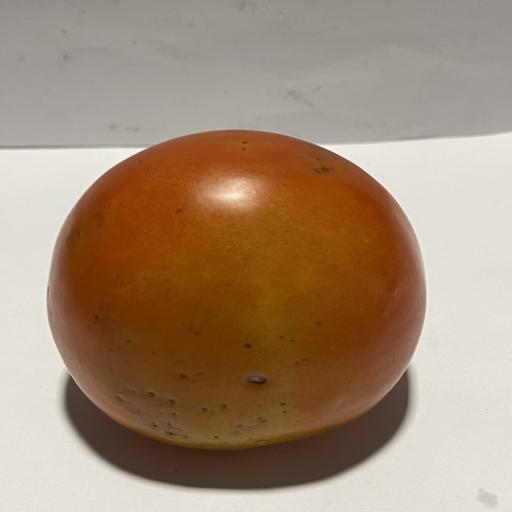unripe: (47, 130, 425, 449)
